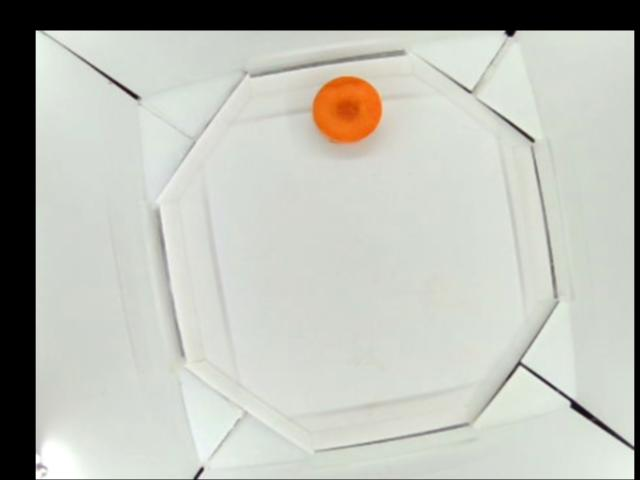Carrot: (313, 76, 382, 143)
